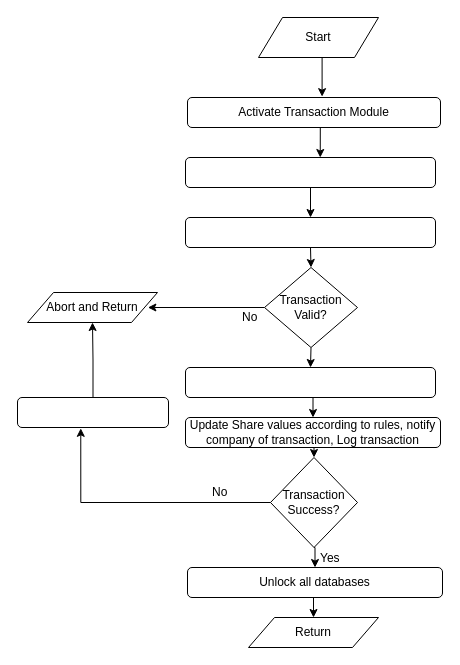
Image size: 460x665. Some labels were removed from this diagram. The centre of each missing label's shape, as x and y in pixels:
"Determine Transaction type" belongs at [310,172].
"Enable Purchase Interface, Wait for user input" belongs at [310,232].
"Lock all concerned databases, Transfer shares, normalize Credits" belongs at [310,382].
"Rollback all changes, cleanup" belongs at [92,412].
